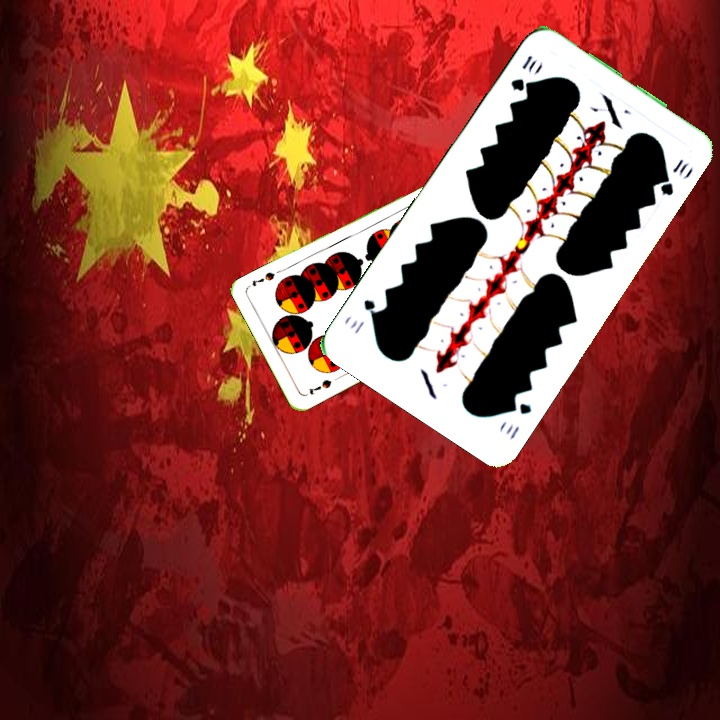G10: (501, 396, 534, 443), (506, 51, 541, 94)
S7: (305, 375, 334, 397)
